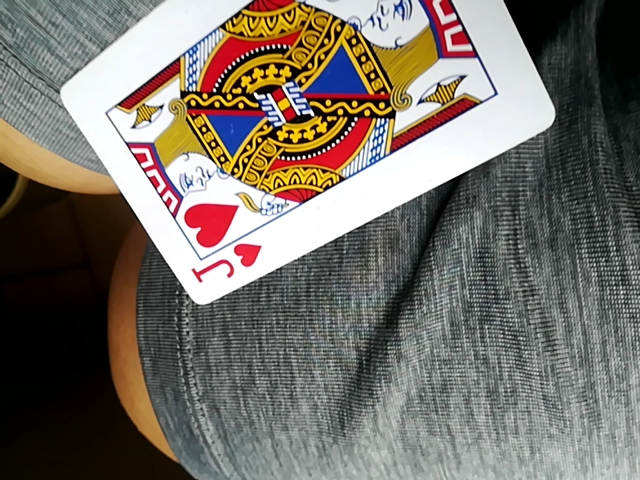hx j: (64, 3, 548, 310)
